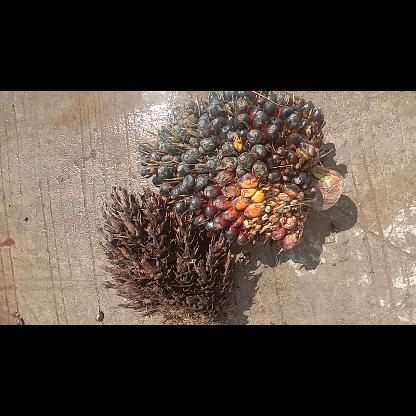Janjang kosong: (99, 186, 235, 324)
TBS mentah: (136, 91, 342, 255)
